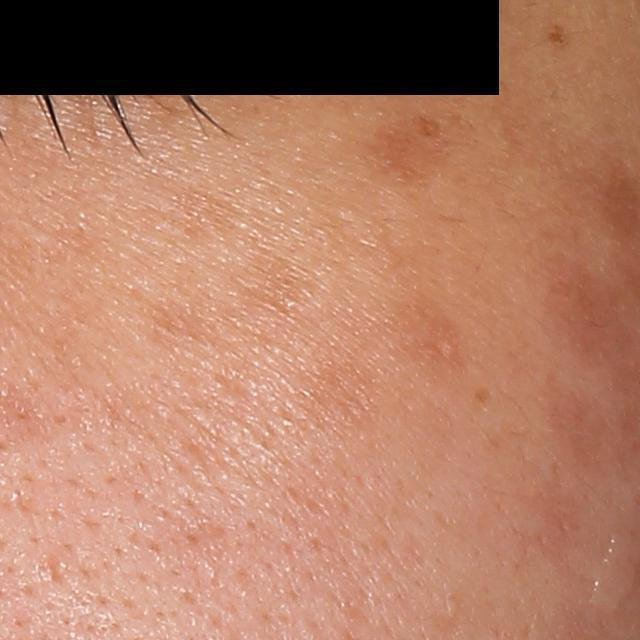melasma: (415, 112, 445, 139)
nevus: (544, 19, 568, 46)
